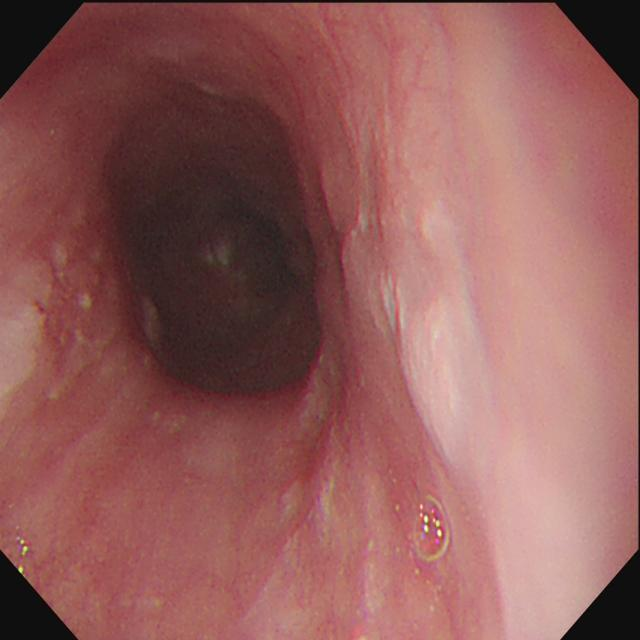E: (159, 183, 305, 331)
T: (410, 495, 453, 564)
